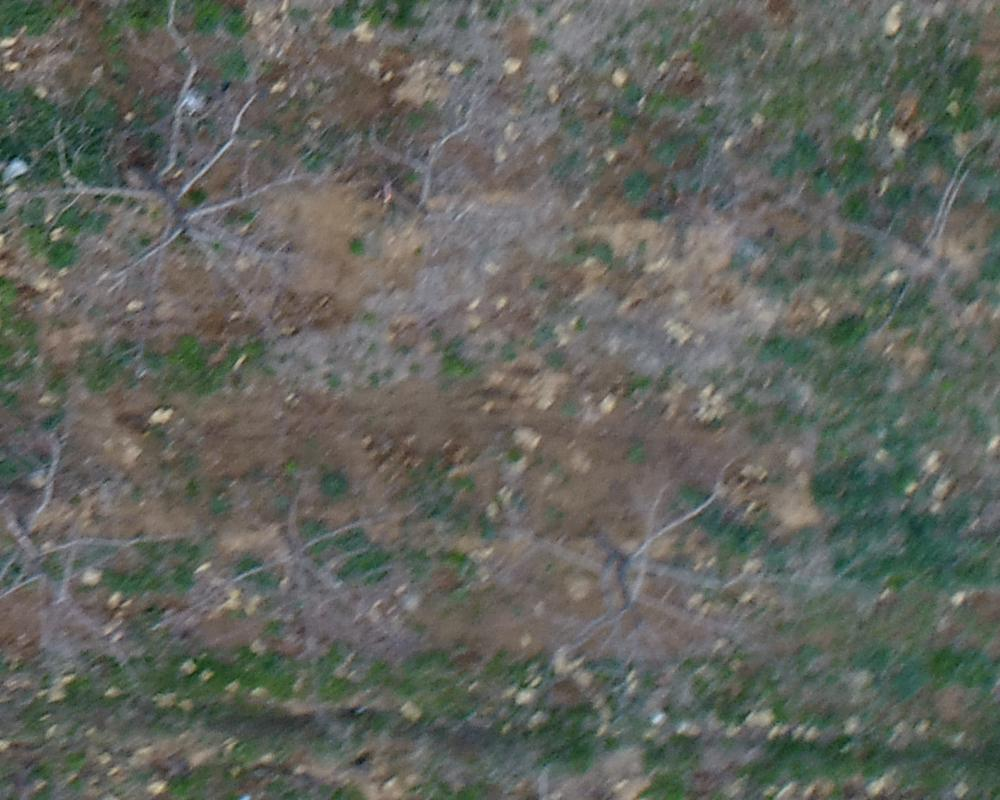apple: (29, 10, 333, 344), (545, 478, 774, 696), (10, 415, 170, 688), (194, 492, 406, 696), (806, 161, 990, 342)
